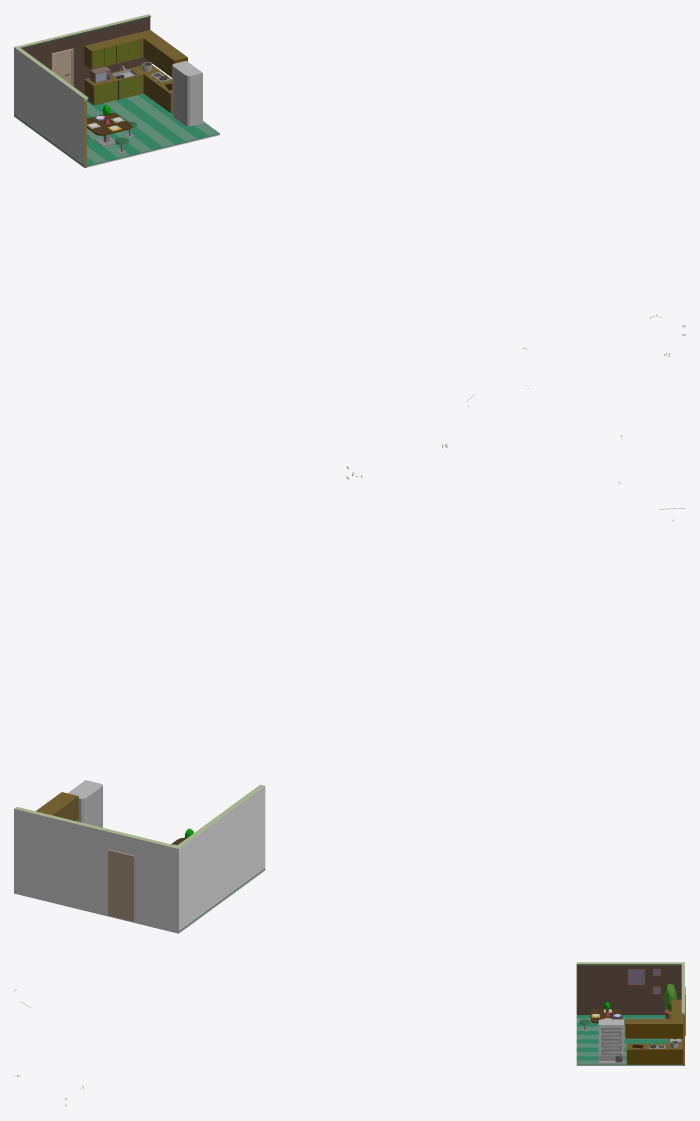
File: Komnata_Stolovaya-kukhnya.fbx
The picture shows the model from 3 angles, top to bottom: view 1: azimuth 30°, elevation 25°; view 2: azimuth 150°, elevation 25°; view 3: azimuth 270°, elevation 25°; orthographic projection. The views are drawn at different scales.
Visible parts, largest first — view 1: Куб, Куб.061, Куб.002, Cube.003, Куб.003, Куб.005, Cube.001; view 2: Куб, Cube.001, Cube.003, Куб.002; view 3: Куб, Куб.061, Куб.002, Куб.003, Cube.003, Куб.033, Куб.052, Куб.005, Куб.034, Сфера.001.
Part boxes in pixels (x1,y1,x2,y2): Куб: (14, 14, 219, 167); Куб.061: (14, 93, 219, 167); Куб.002: (84, 30, 187, 77); Cube.003: (172, 60, 202, 126); Куб.003: (84, 65, 172, 113); Куб.005: (87, 113, 132, 146); Cube.001: (51, 48, 73, 86); Куб: (14, 784, 265, 933); Cube.001: (108, 849, 134, 921); Cube.003: (68, 780, 102, 827); Куб.002: (36, 792, 78, 820); Куб: (576, 962, 684, 1065); Куб.061: (576, 1015, 684, 1065); Куб.002: (625, 999, 682, 1038); Куб.003: (627, 1038, 682, 1064); Cube.003: (598, 1019, 624, 1063); Куб.033: (601, 1027, 621, 1058); Куб.052: (627, 969, 645, 985); Куб.005: (590, 1009, 622, 1023); Куб.034: (603, 1027, 620, 1054); Сфера.001: (663, 983, 676, 1010).
Bounding box in the file's own units: 2655 × 666 × 7539.
